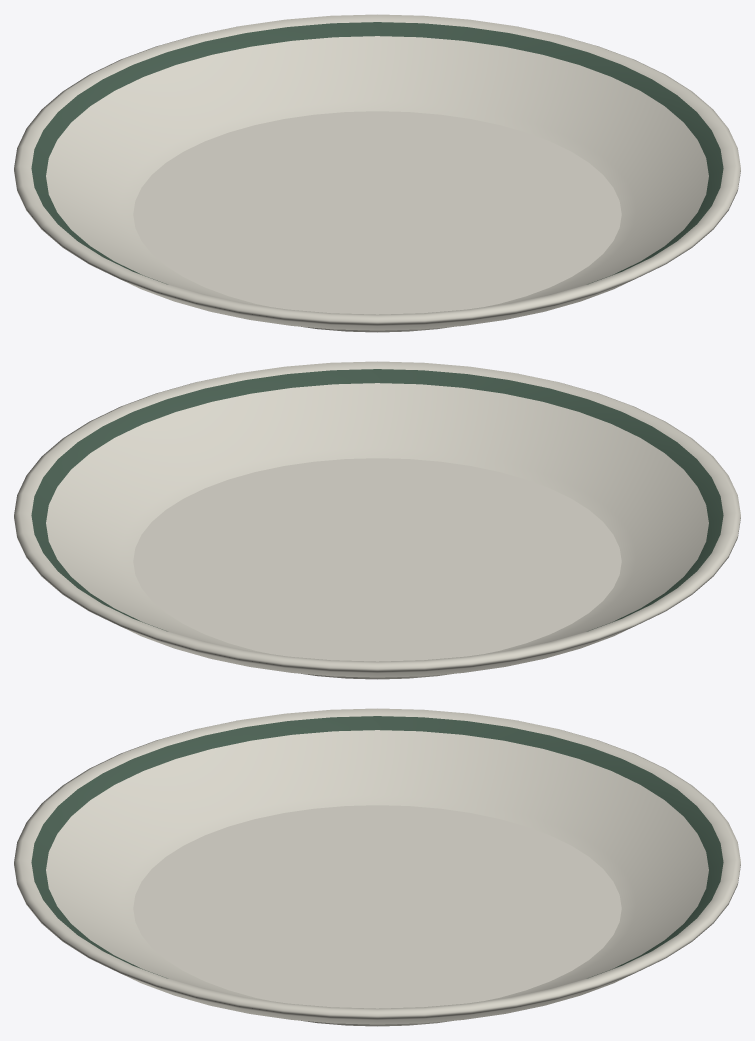
The model's file is plate.glb.
3 renders of one model, top to bottom at view 1: azimuth 30°, elevation 25°; view 2: azimuth 150°, elevation 25°; view 3: azimuth 270°, elevation 25°, orthographic.
Visible parts, largest first — view 1: Dish; view 2: Dish; view 3: Dish.
Part boxes in pixels (box(x1,y1,x2,y2)): Dish: box(14, 14, 740, 332); Dish: box(14, 361, 740, 679); Dish: box(14, 708, 740, 1026).
Size of the model in its own units: 0.25 by 0.026 by 0.25.
